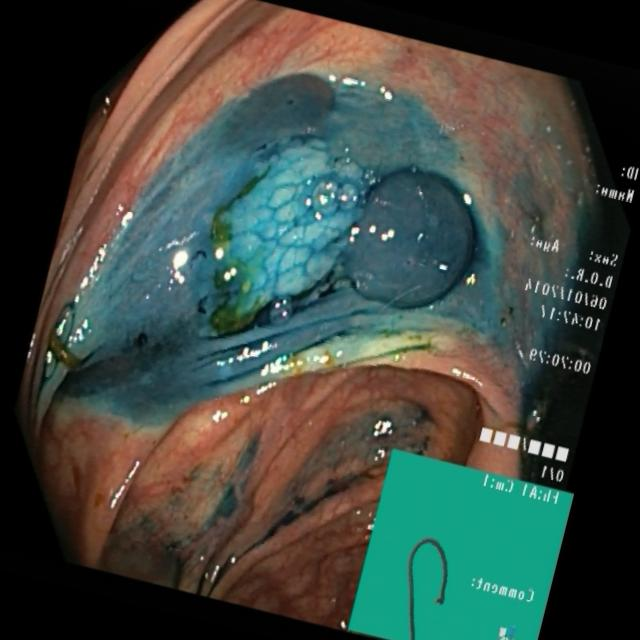dyed-lifted-polyps: (190, 128, 487, 340)
